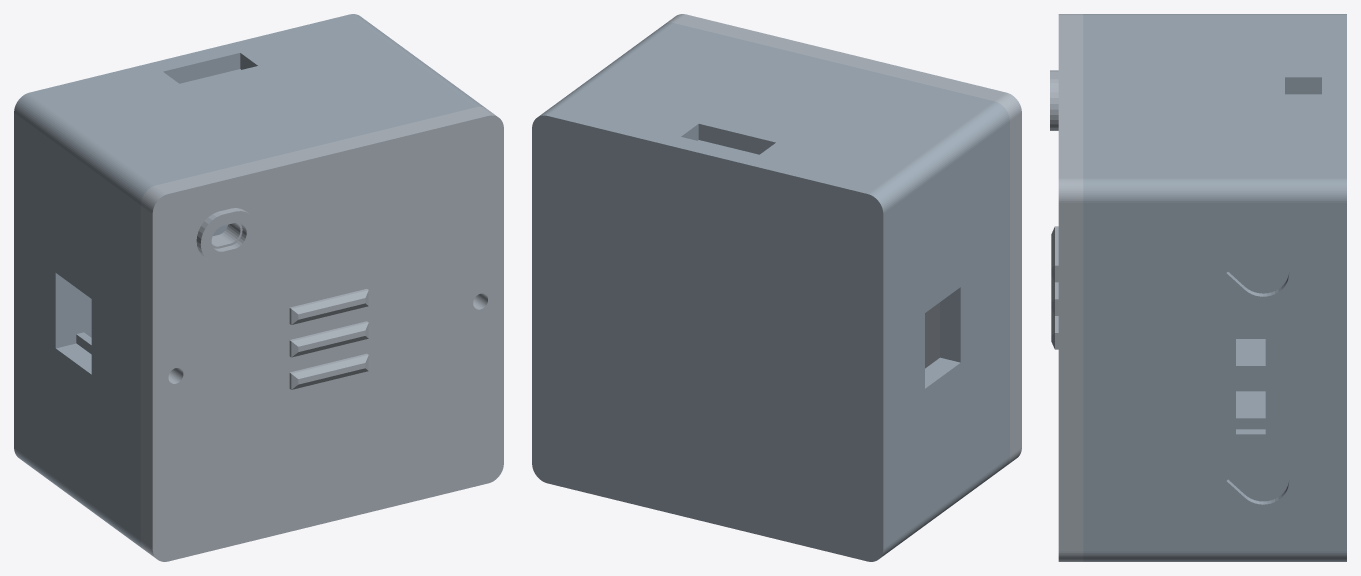
File: pod.glb
3 renders of one model, left to right at view 1: azimuth 30°, elevation 25°; view 2: azimuth 150°, elevation 25°; view 3: azimuth 270°, elevation 25°, orthographic. The views are drawn at different scales.
Visible parts, largest first — view 1: pod_lid, pod_shell; view 2: pod_shell, pod_lid; view 3: pod_shell, pod_lid.
Part boxes in pixels (x1,y1,x2,y2): pod_lid: [140, 106, 503, 561]; pod_shell: [14, 14, 485, 549]; pod_shell: [532, 22, 1009, 561]; pod_lid: [665, 14, 1021, 465]; pod_shell: [1083, 14, 1346, 561]; pod_lid: [1050, 14, 1083, 561].
Bounding box in the file's own units: 68 × 68 × 47.89.
